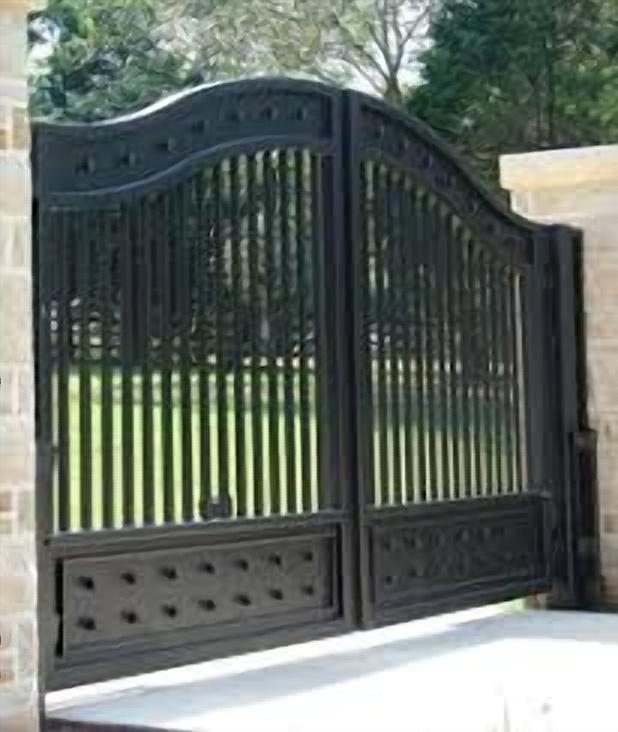Gate: (28, 74, 581, 732)
